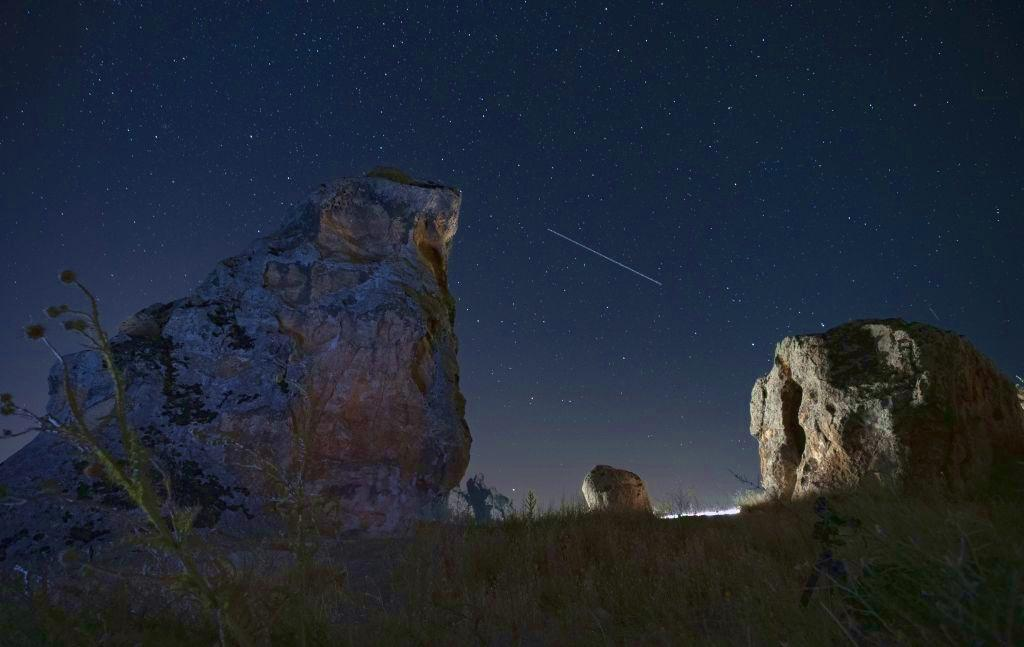meteorite: (535, 218, 677, 293)
